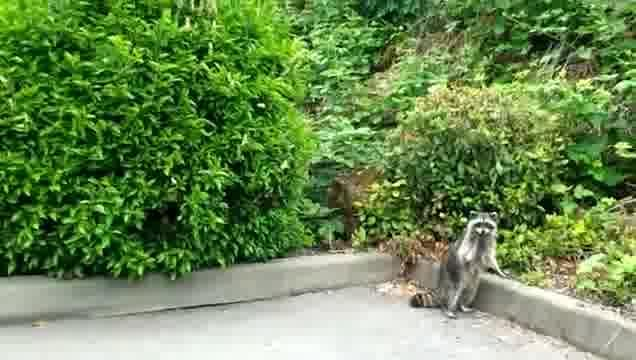raccoon: (409, 209, 508, 319)
